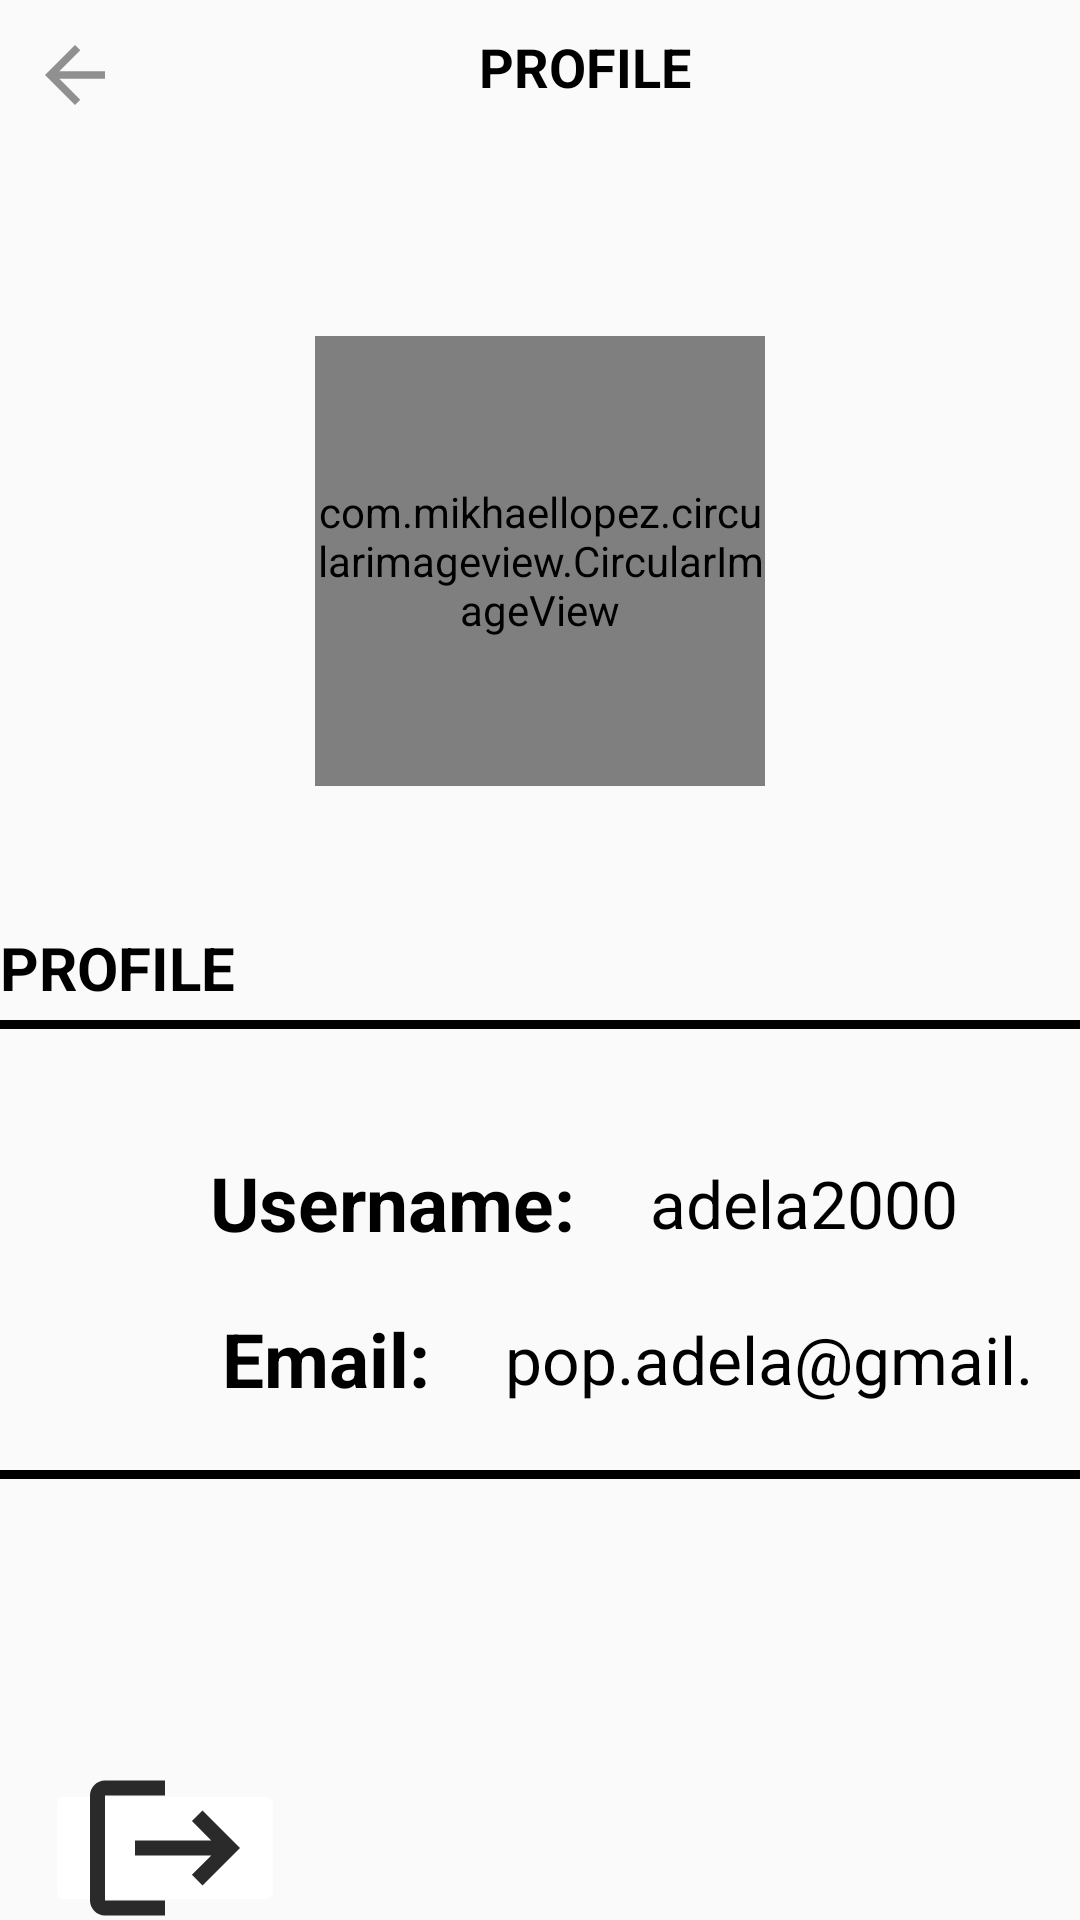

Screen size 1080x1920. Icon name, then its center in pixels as (x,y):
arrow back: (75,75)
